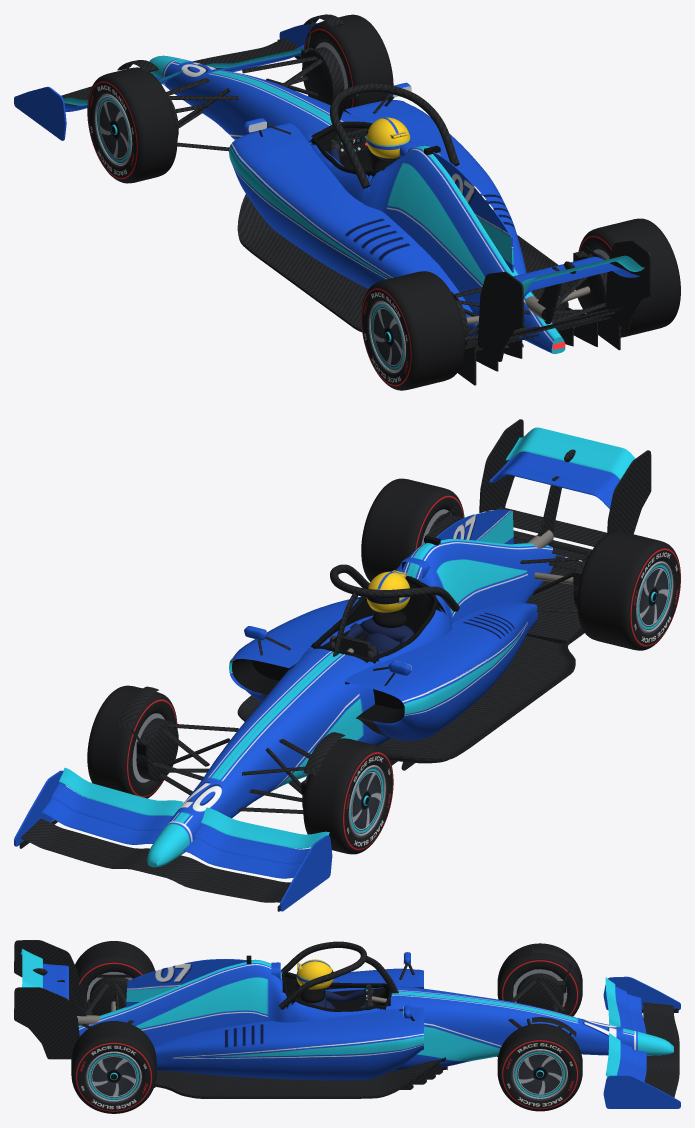
Rendered from f1car.glb.
3 views of the same model, one above another, from view 1: azimuth 30°, elevation 25°; view 2: azimuth 150°, elevation 25°; view 3: azimuth 270°, elevation 25° (orthographic). The views are drawn at different scales.
Visible parts, largest first — view 1: body, wings, wheel_RL, floor, wheel_FL, wheel_RR, suspension, wheel_FR, halo, brake_duct_FR, helmet; view 2: body, wings, floor, wheel_RL, wheel_FL, wheel_RR, wheel_FR, suspension, brake_duct_FR, halo, driver, helmet (+1 smaller); view 3: body, wings, wheel_RR, wheel_FR, floor, wheel_FL, wheel_RL, suspension, halo, brake_duct_FL, helmet, driver.
Boxes of the visible parts, x1,y1,x2,y2 form: body: [149, 55, 565, 354]; wings: [14, 22, 651, 361]; wheel_RL: [361, 271, 464, 390]; floor: [237, 194, 620, 385]; wheel_FL: [87, 67, 177, 183]; wheel_RR: [578, 218, 680, 337]; suspension: [166, 56, 607, 348]; wheel_FR: [304, 14, 393, 111]; halo: [330, 83, 459, 188]; brake_duct_FR: [301, 14, 345, 105]; helmet: [366, 117, 410, 160]; body: [147, 509, 564, 867]; wings: [14, 419, 651, 911]; floor: [237, 555, 584, 770]; wheel_RL: [577, 531, 680, 650]; wheel_FL: [303, 738, 393, 854]; wheel_RR: [361, 478, 464, 581]; wheel_FR: [87, 685, 177, 798]; suspension: [152, 506, 590, 813]; brake_duct_FR: [117, 686, 178, 781]; halo: [330, 564, 459, 656]; driver: [329, 611, 414, 658]; helmet: [366, 570, 409, 614]; body: [77, 952, 673, 1080]; wings: [14, 940, 680, 1108]; wheel_RR: [71, 1021, 156, 1113]; wheel_FR: [497, 1023, 582, 1111]; floor: [81, 1008, 447, 1098]; wheel_FL: [497, 943, 582, 1016]; wheel_RL: [75, 941, 154, 1012]; suspension: [82, 974, 565, 1056]; halo: [278, 941, 398, 1009]; brake_duct_FL: [516, 948, 576, 1012]; helmet: [296, 959, 333, 991]; driver: [300, 988, 373, 1008].
Bounding box in the file's own units: 2 × 1.05 × 5.63.
Materials: 21 (9 with a texture image).
